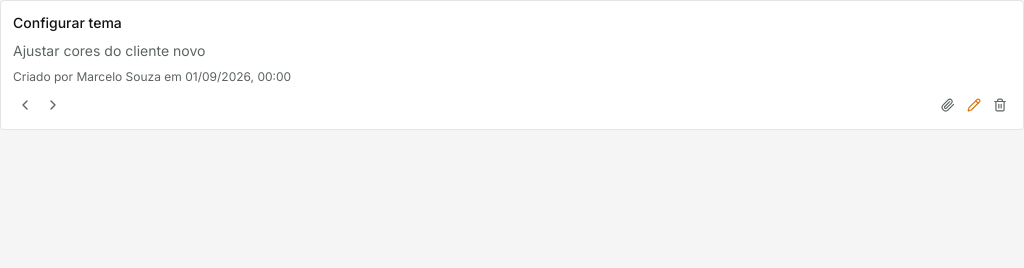
TaskCardItem › mostra a seção de anexos ao entrar em modo de edição
Click the button named "Editar Configurar tema" at (974, 105), box x1=963 y1=94 x2=985 y2=116
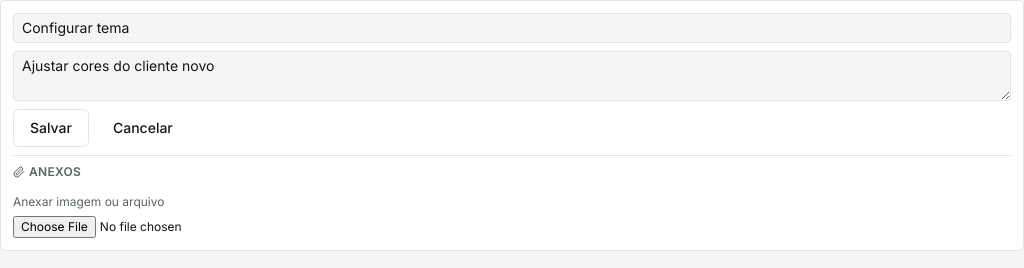
Check: the text "Anexos" is shown, box x1=13 y1=164 x2=81 y2=179
Check: the text "Anexar imagem ou arquivo" is shown, box x1=13 y1=194 x2=164 y2=209
